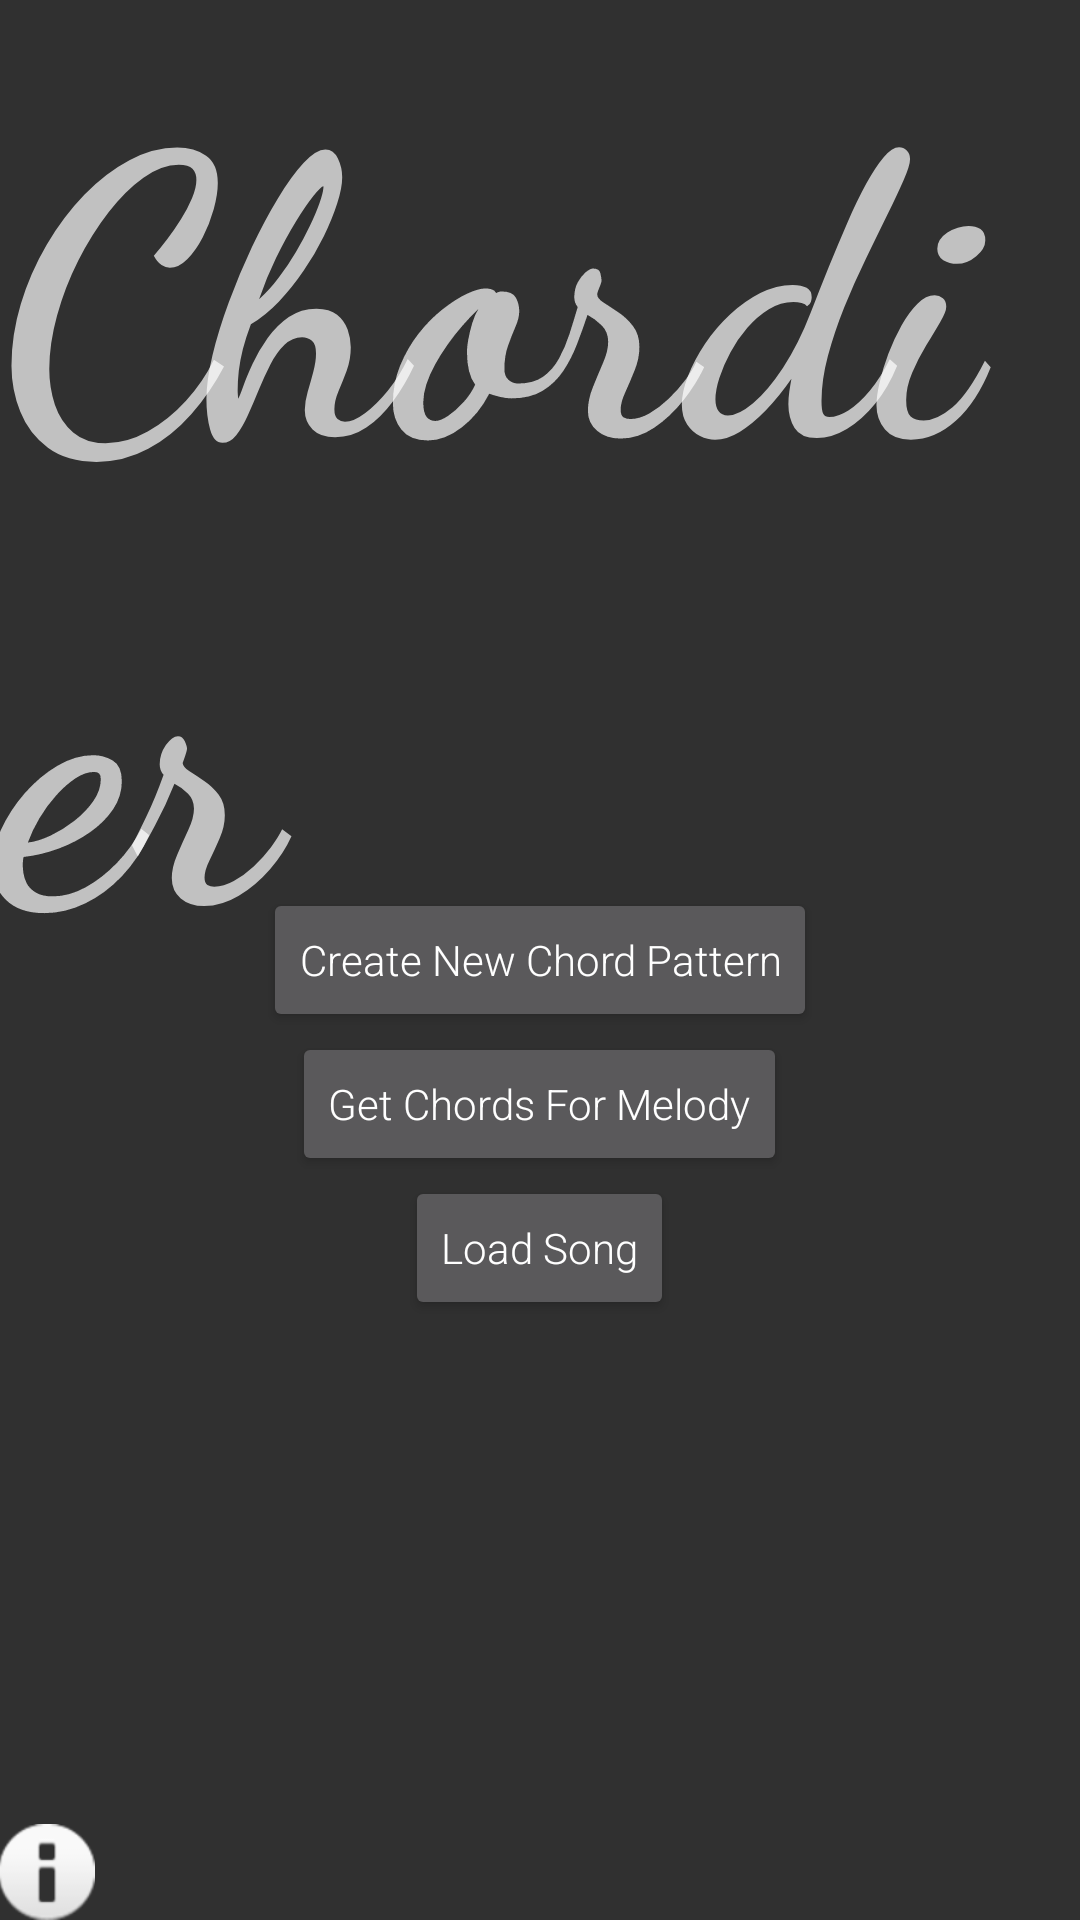

Where icons sit on this 1080*1920 app screen, as (x1, y1, x2, y2):
info: (0, 1824, 95, 1920)
